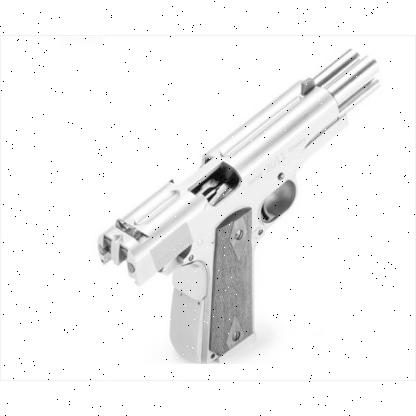gun: (96, 46, 382, 364)
